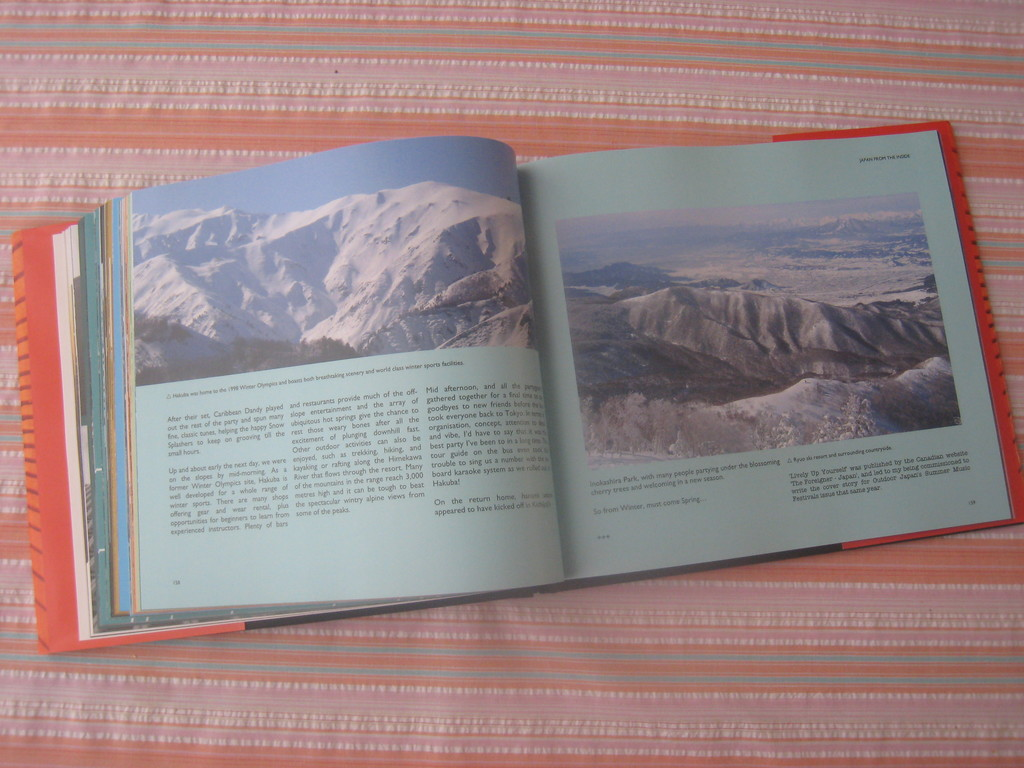Book: (6, 115, 1019, 664)
